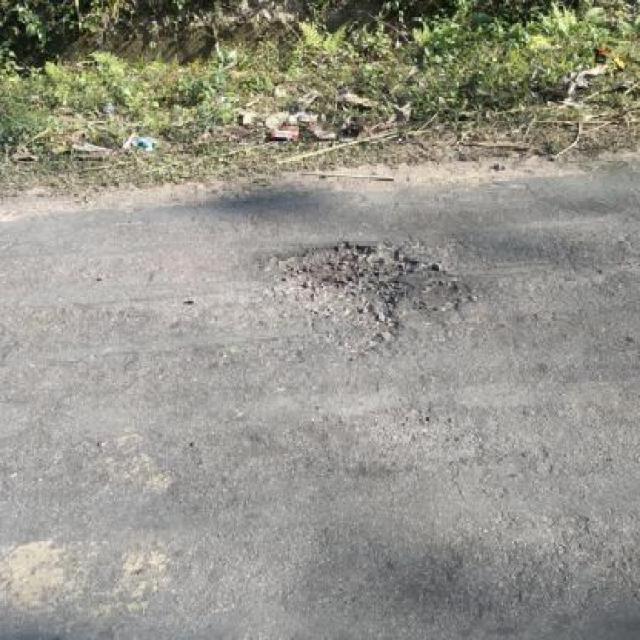pothole: (256, 242, 433, 345)
